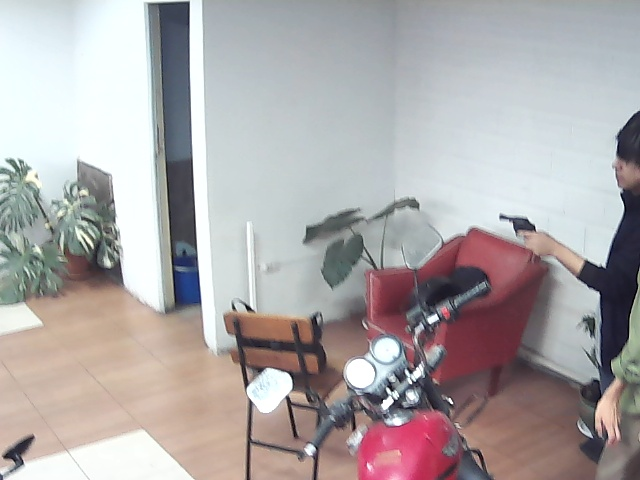pistola: (492, 209, 556, 262)
